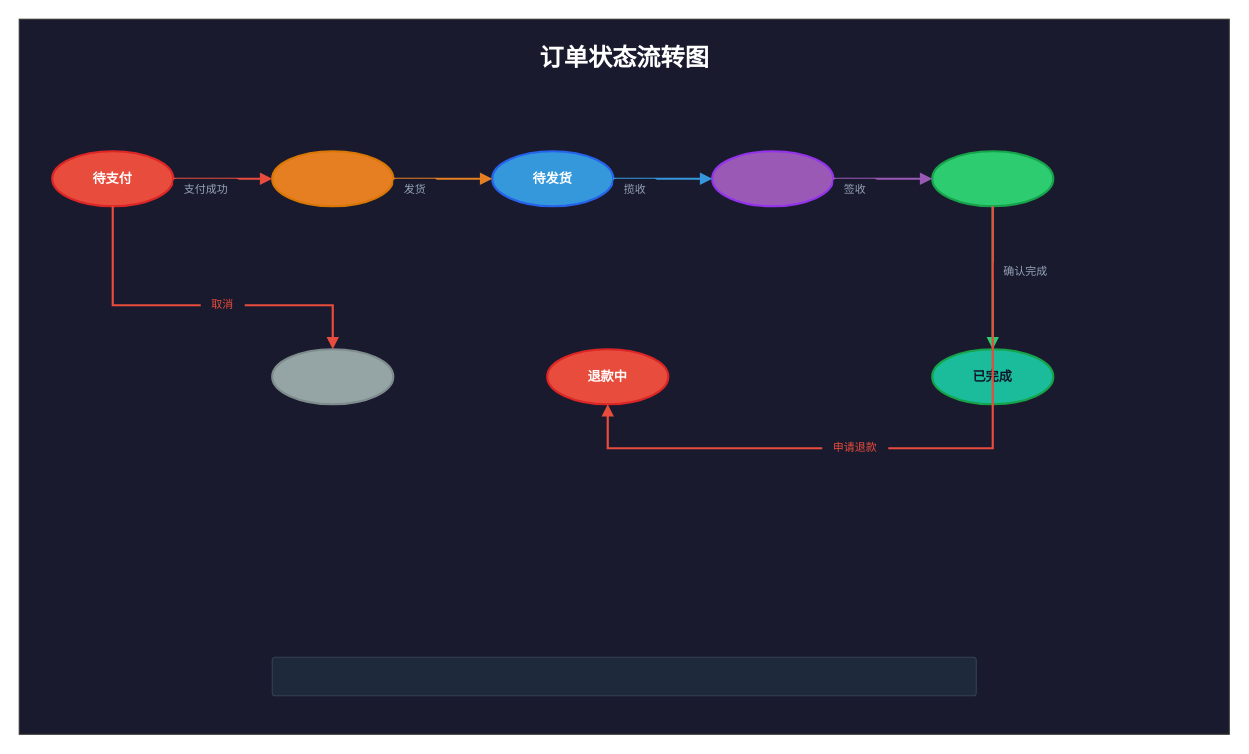
The diagram is 1249 pixels wide and 754 high, and some of its shapes have lost their labels. Here are the shapes that lost their labels. From the top down, the centre of each, then its label:
At [332,178]: "已支付".
At [772,178]: "运输中".
At [992,178]: "已签收".
At [332,376]: "已取消".
At [623,676]: "图例：红色=待支付/退款 橙色=已支付 蓝色=待发货 紫色=运输中 绿色=已签收/已完成 灰色=已取消".
